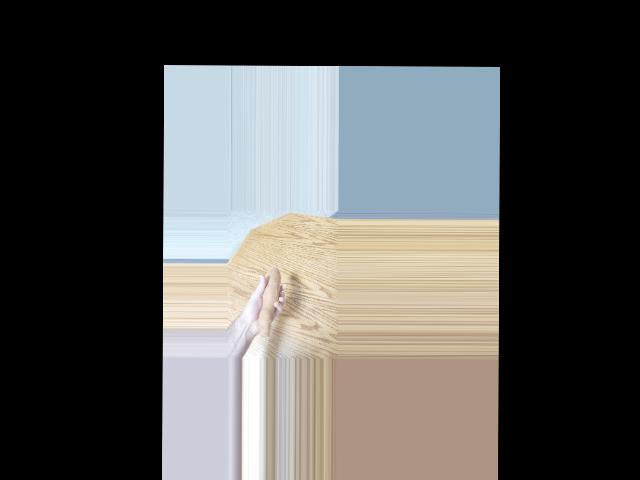sweet_potato: (252, 266, 282, 344)
